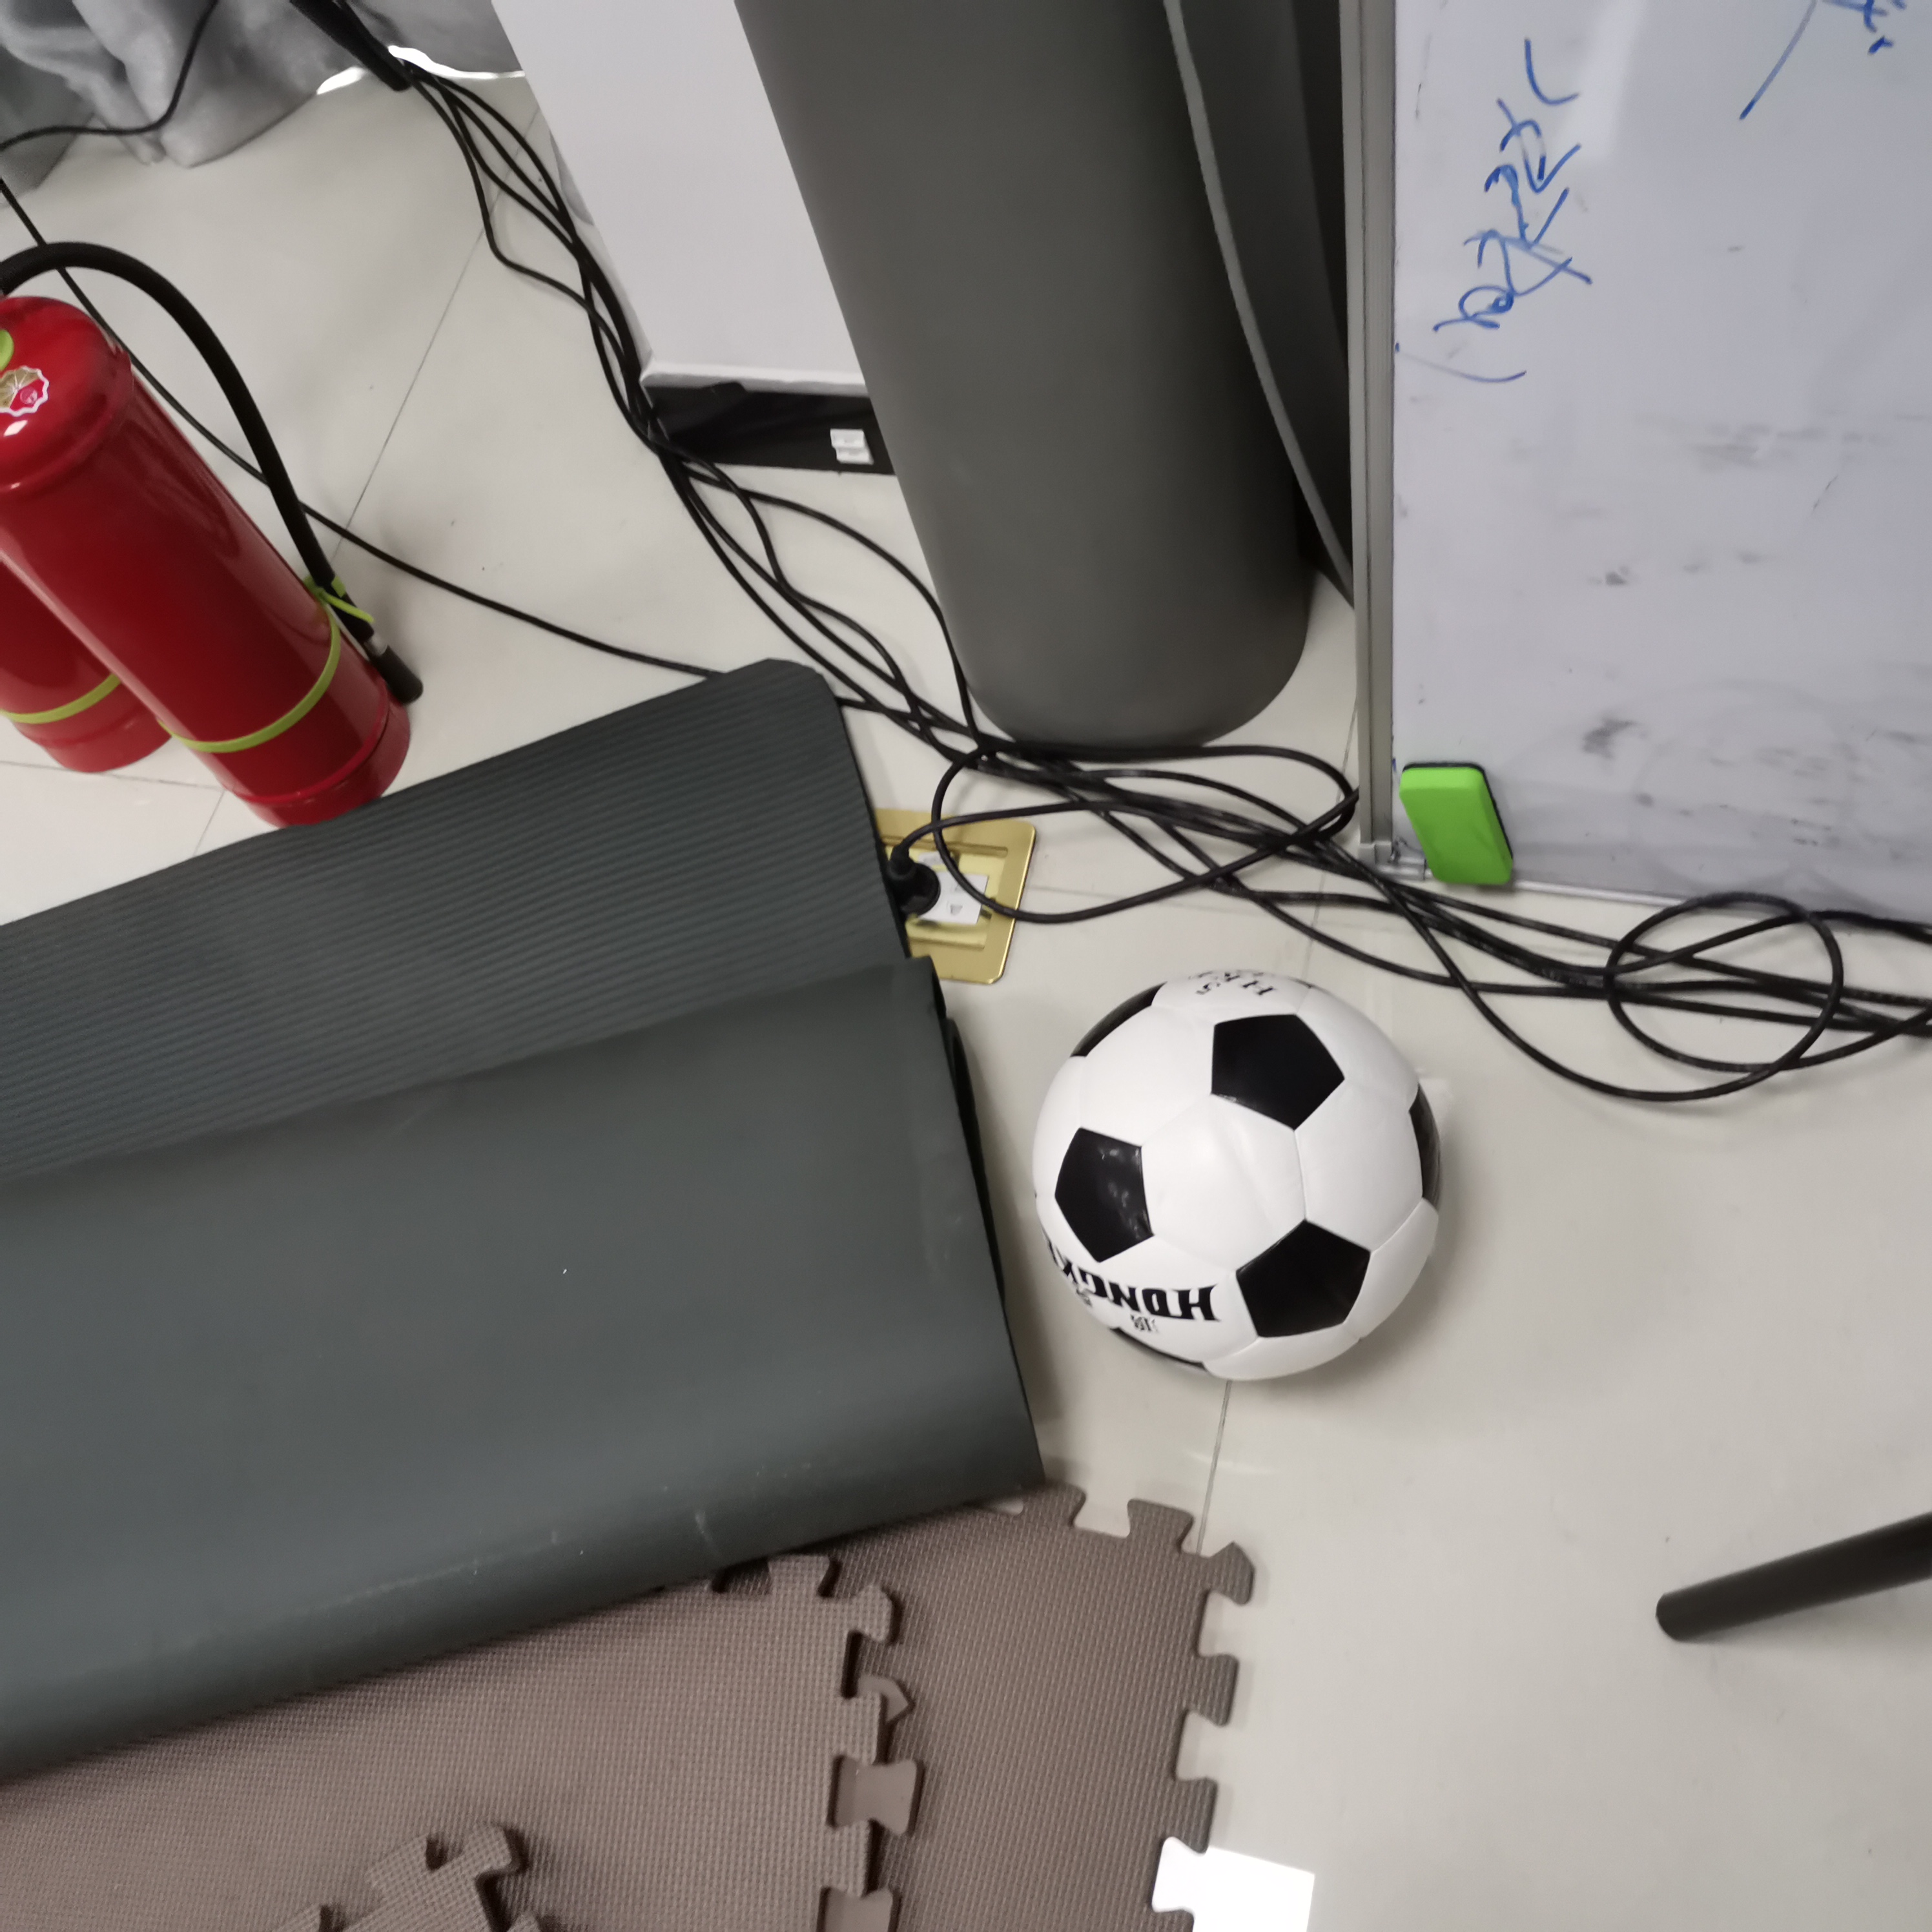football: (1026, 975, 1447, 1391)
